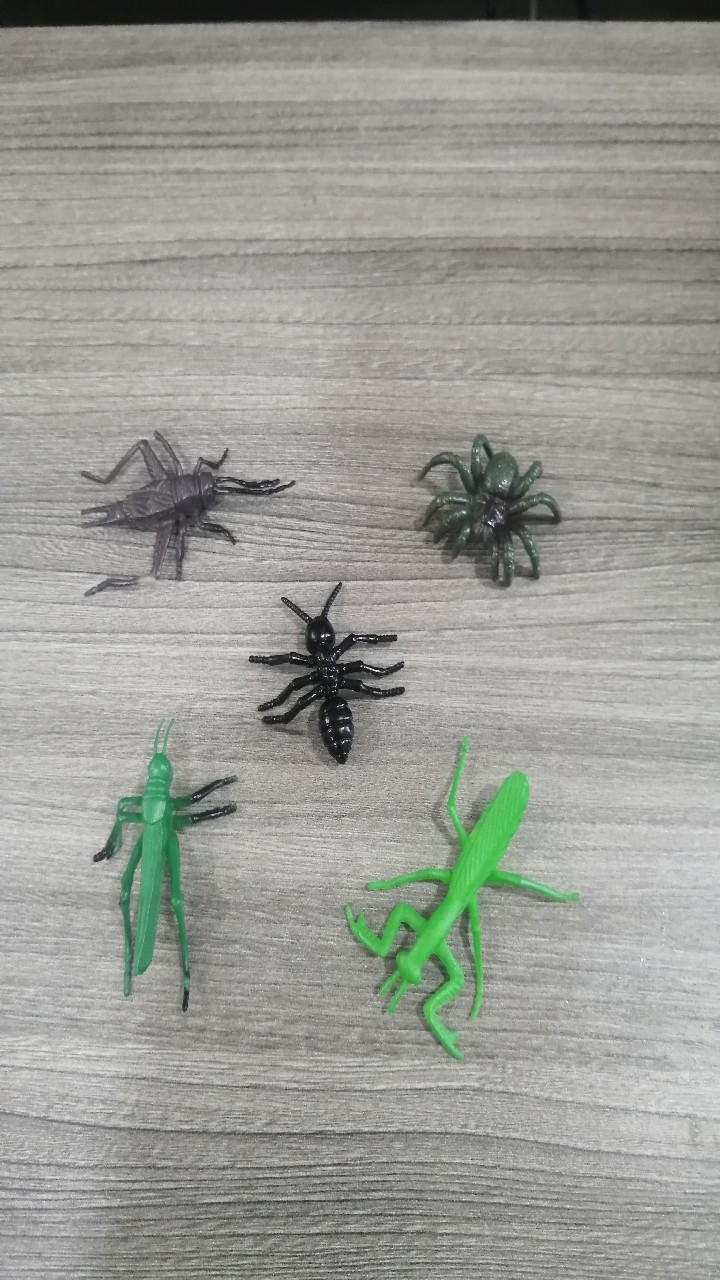intruso: (331, 731, 566, 1083), (66, 712, 241, 1039), (41, 391, 283, 611), (394, 385, 580, 631), (215, 559, 411, 788)
